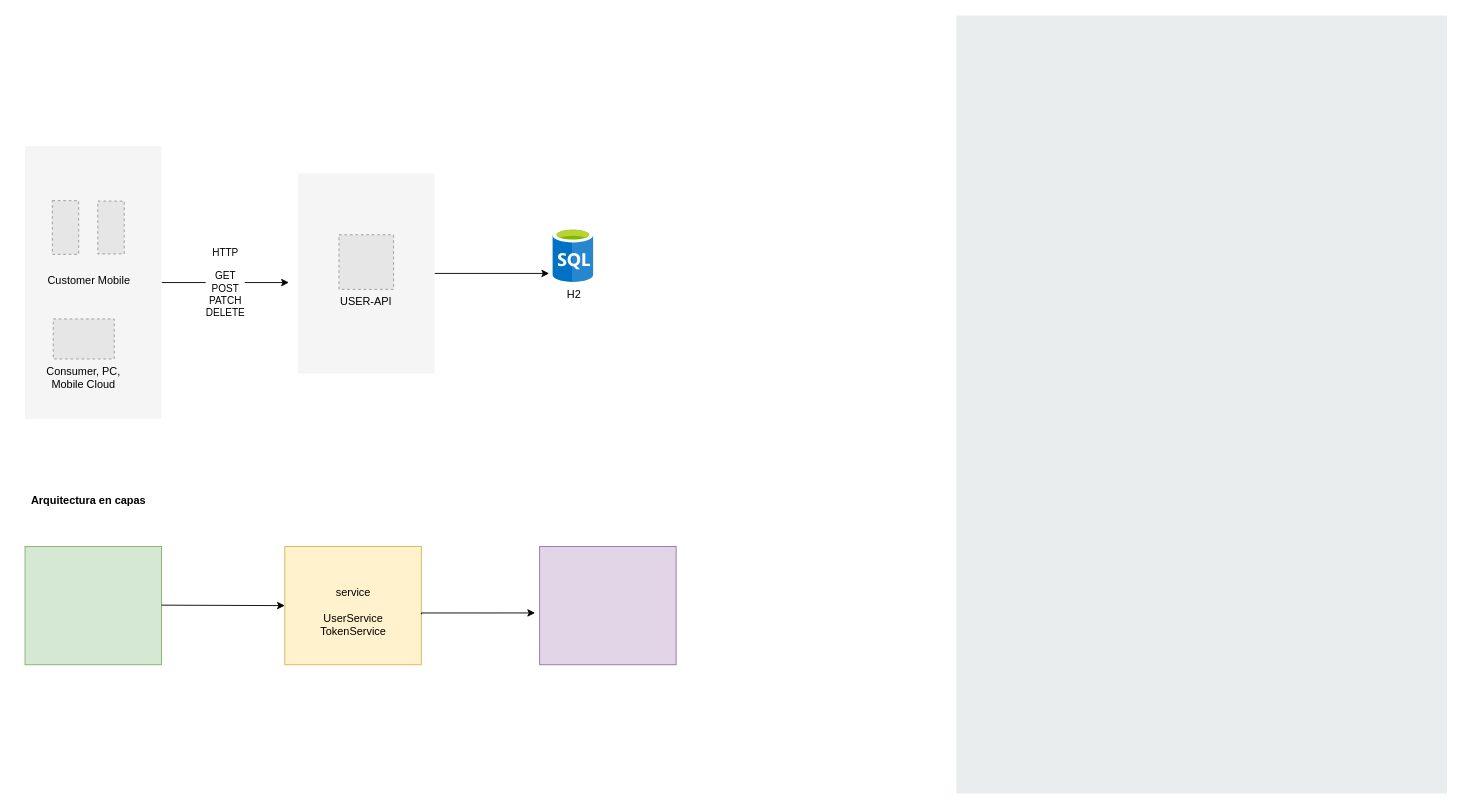
This 1462x809 diagram has some shape labels left out. Grey dashed boxes stand in for pictures. The centre of each missing label's shape, as x and y in pixels:
"dao UserDao" belongs at point 607,605.
"resource UserController" belongs at point 93,605.
